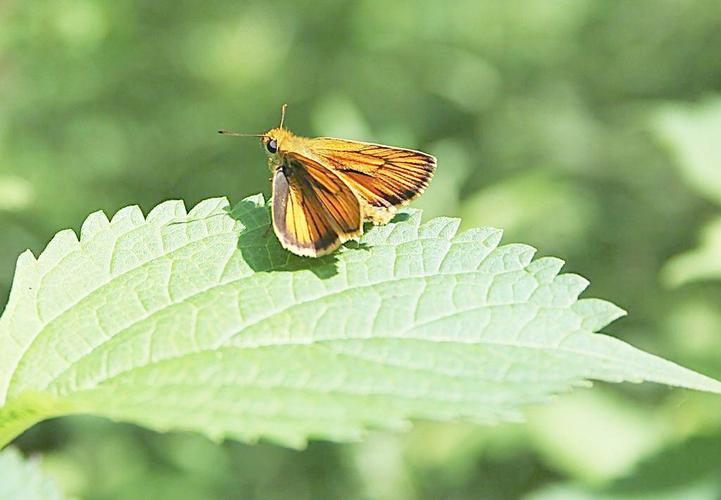Hesperiidae: (215, 102, 442, 260)
